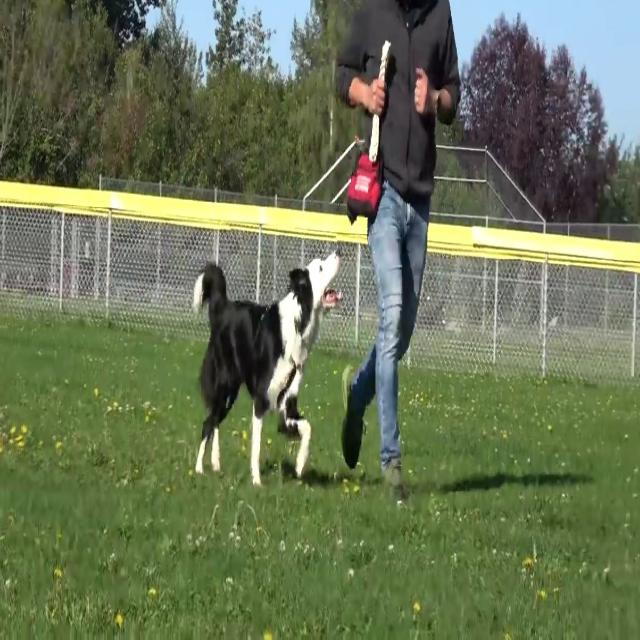Unleashed_Dog: (192, 230, 402, 488)
